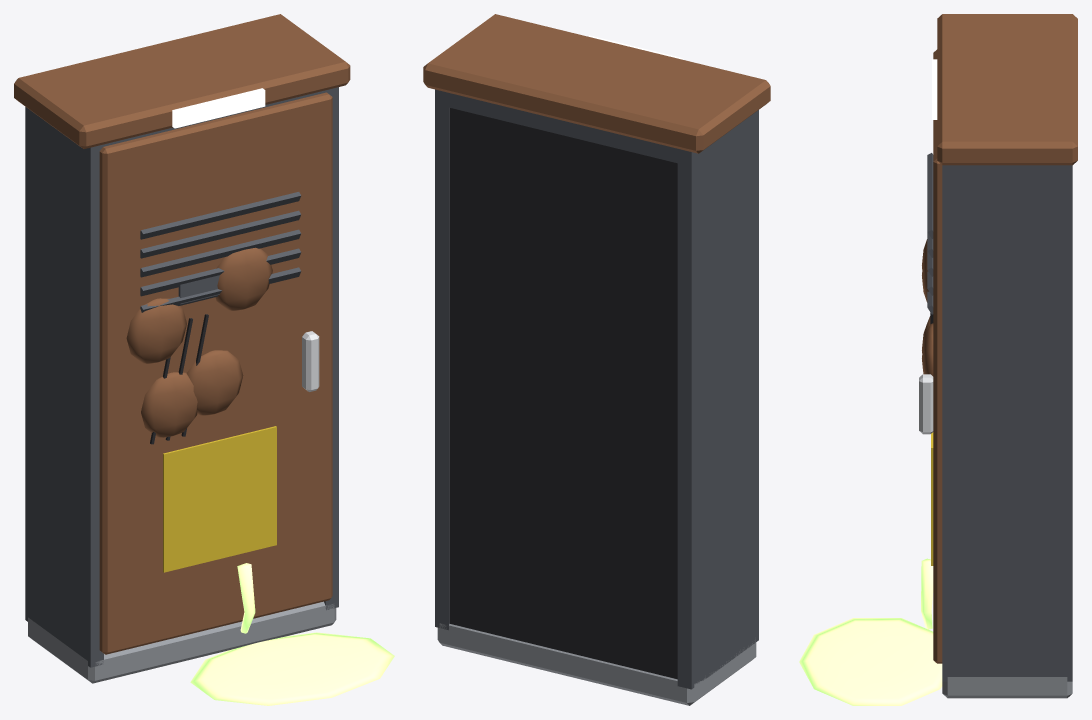
The model's file is locker_bad.glb.
3 renders of one model, left to right at view 1: azimuth 30°, elevation 25°; view 2: azimuth 150°, elevation 25°; view 3: azimuth 270°, elevation 25°, orthographic. The views are drawn at different scales.
Visible parts, largest first — view 1: door, locker; view 2: locker; view 3: locker, door.
Boxes of the visible parts, x1,y1,x2,y2 form: door: [99, 92, 332, 654]; locker: [14, 14, 394, 705]; locker: [423, 14, 770, 705]; locker: [799, 14, 1077, 705]; door: [919, 49, 942, 663].
Bounding box in the file's own units: 1.2 × 2.39 × 1.07.
